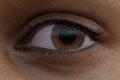eye: (52, 24, 85, 51)
